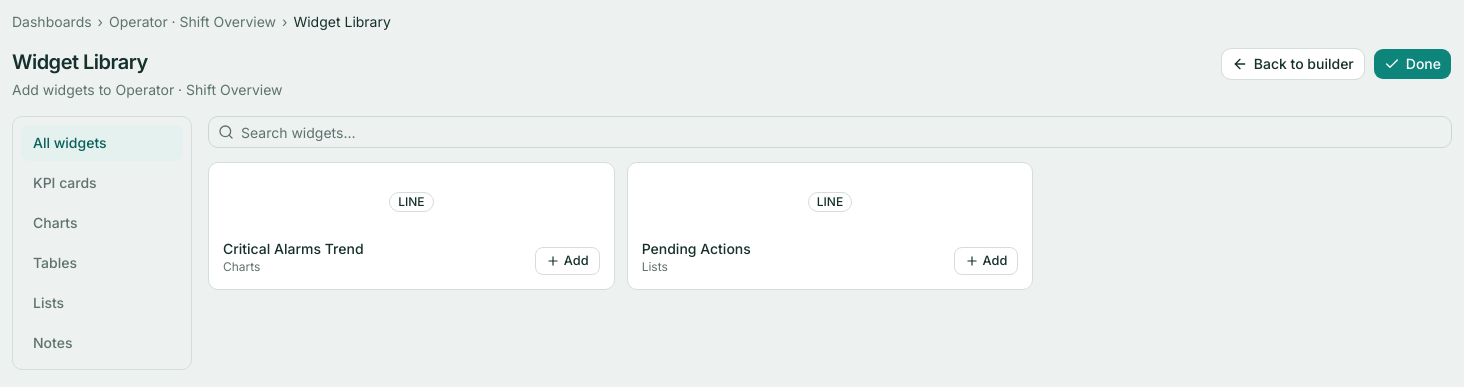
Test: WidgetLibraryView › filters widgets by category chip
The image size is (1464, 387).
Expected: the text "Critical Alarms Trend" is shown, [223,239,364,259]
Expected: the text "Pending Actions" is shown, [642,239,751,259]
Step 1. Click the button "Charts" → [102, 223], box [21,205,183,241]
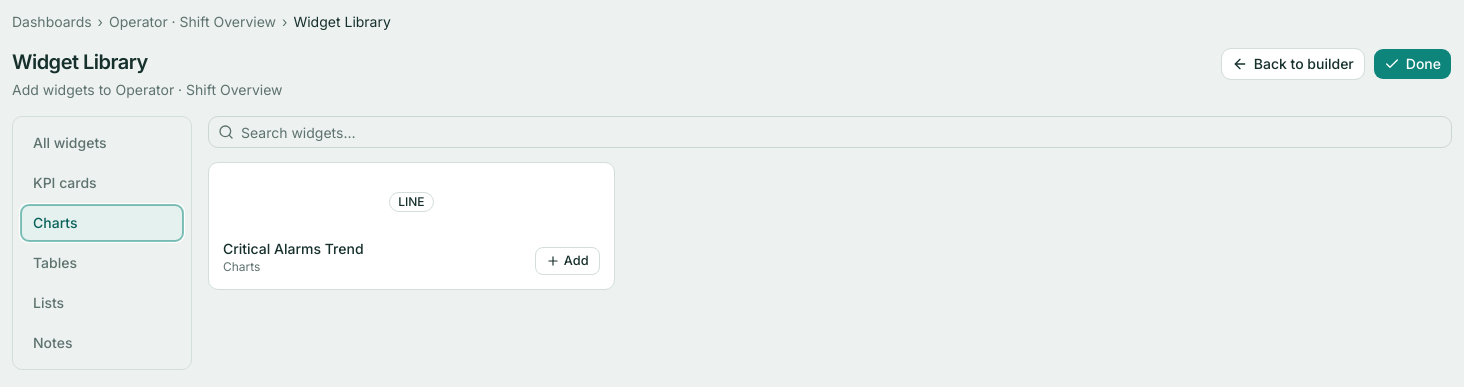
Expected: the text "Critical Alarms Trend" is shown, [223,239,364,259]
Result: the text "Pending Actions" is gone
